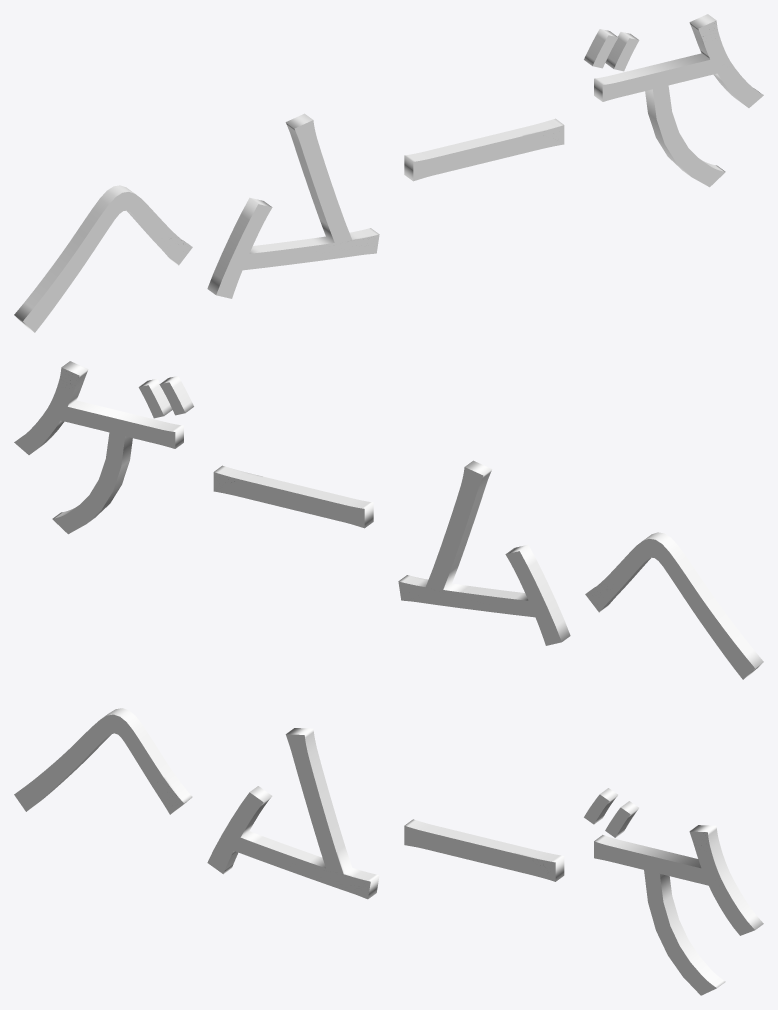
Rendered from ToGame.obj.
3 renders of one model, top to bottom at view 1: azimuth 30°, elevation 25°; view 2: azimuth 150°, elevation 25°; view 3: azimuth 330°, elevation 25°, orthographic.
Parts seen in each view (by area): view 1: テキスト; view 2: テキスト; view 3: テキスト.
Part boxes in pixels (bbox=[...]): テキスト: bbox=[14, 14, 763, 332]; テキスト: bbox=[14, 361, 763, 679]; テキスト: bbox=[14, 708, 763, 995].
Bounding box in the file's own units: 3.9 × 0.889 × 0.08.
1 material, 1 textured.
